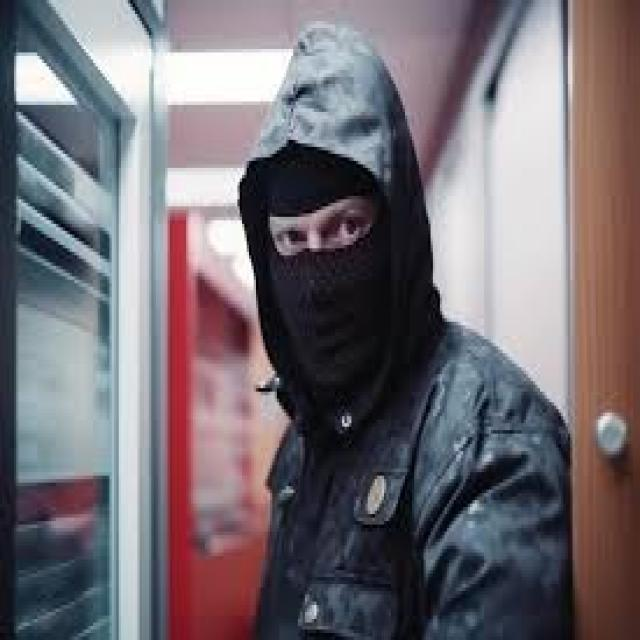39: (237, 19, 447, 583), (595, 391, 630, 460)
75: (354, 322, 573, 639)
handguns: (127, 24, 574, 640)
